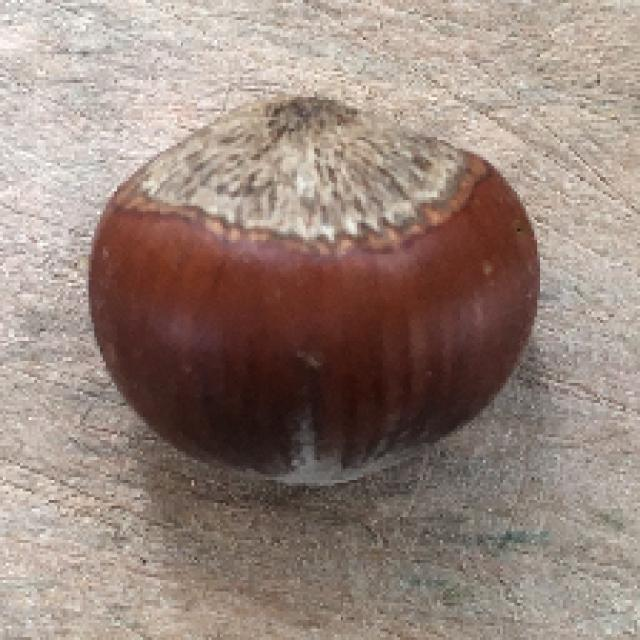DamagedHazelnut: (90, 95, 546, 482)
